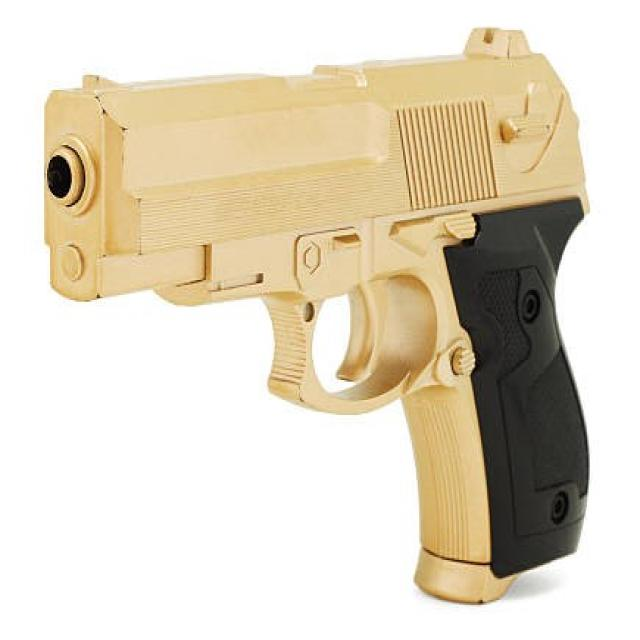pistol: (41, 24, 599, 611)
